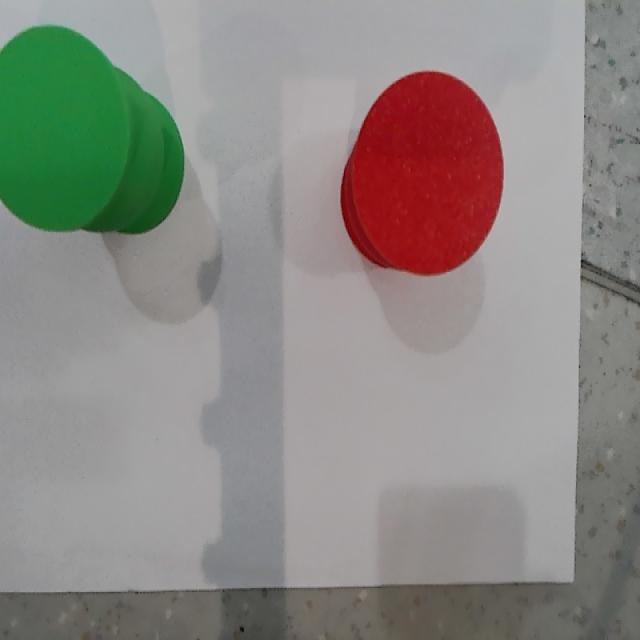r: (350, 70, 504, 276)
